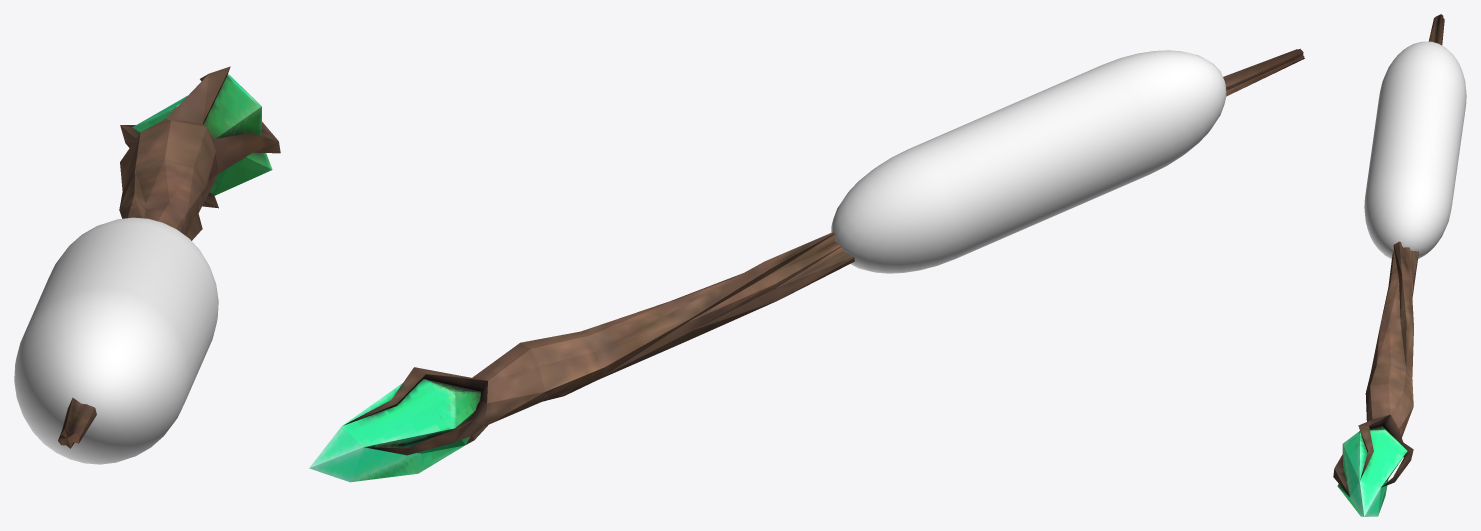
File: WizardStaffAnchor.fbx
3 renders of one model, left to right at view 1: azimuth 90°, elevation 25°; view 2: azimuth 210°, elevation 25°; view 3: azimuth 270°, elevation 25°, orthographic. The views are drawn at different scales.
Visible parts, largest first — view 1: WizardStaff_InteractionPoint, WizardStaff_AtlasTarget; view 2: WizardStaff_InteractionPoint, WizardStaff_AtlasTarget; view 3: WizardStaff_InteractionPoint, WizardStaff_AtlasTarget.
Part boxes in pixels (<box>): WizardStaff_InteractionPoint: <box>14,217,218,464</box>; WizardStaff_AtlasTarget: <box>58,66,280,448</box>; WizardStaff_InteractionPoint: <box>831,50,1226,273</box>; WizardStaff_AtlasTarget: <box>309,48,1304,482</box>; WizardStaff_InteractionPoint: <box>1364,41,1466,259</box>; WizardStaff_AtlasTarget: <box>1333,14,1444,516</box>.
Bounding box in the file's own units: 114 × 30.99 × 19.02.
